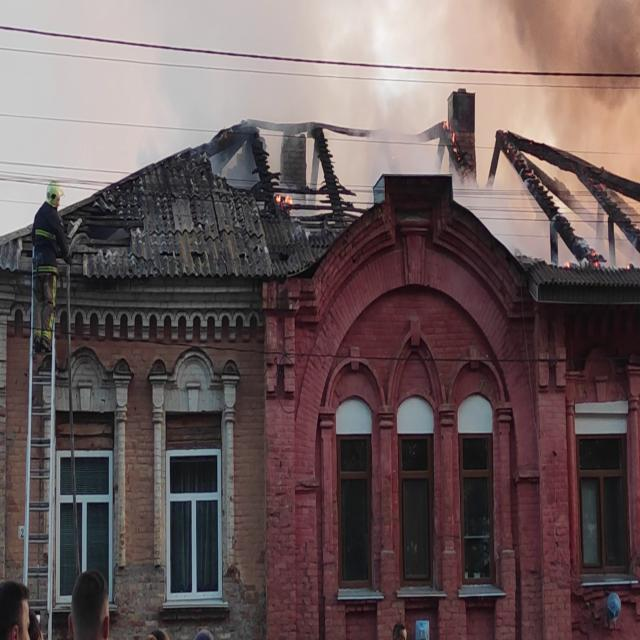smoke: (551, 0, 638, 158), (383, 99, 439, 175)
